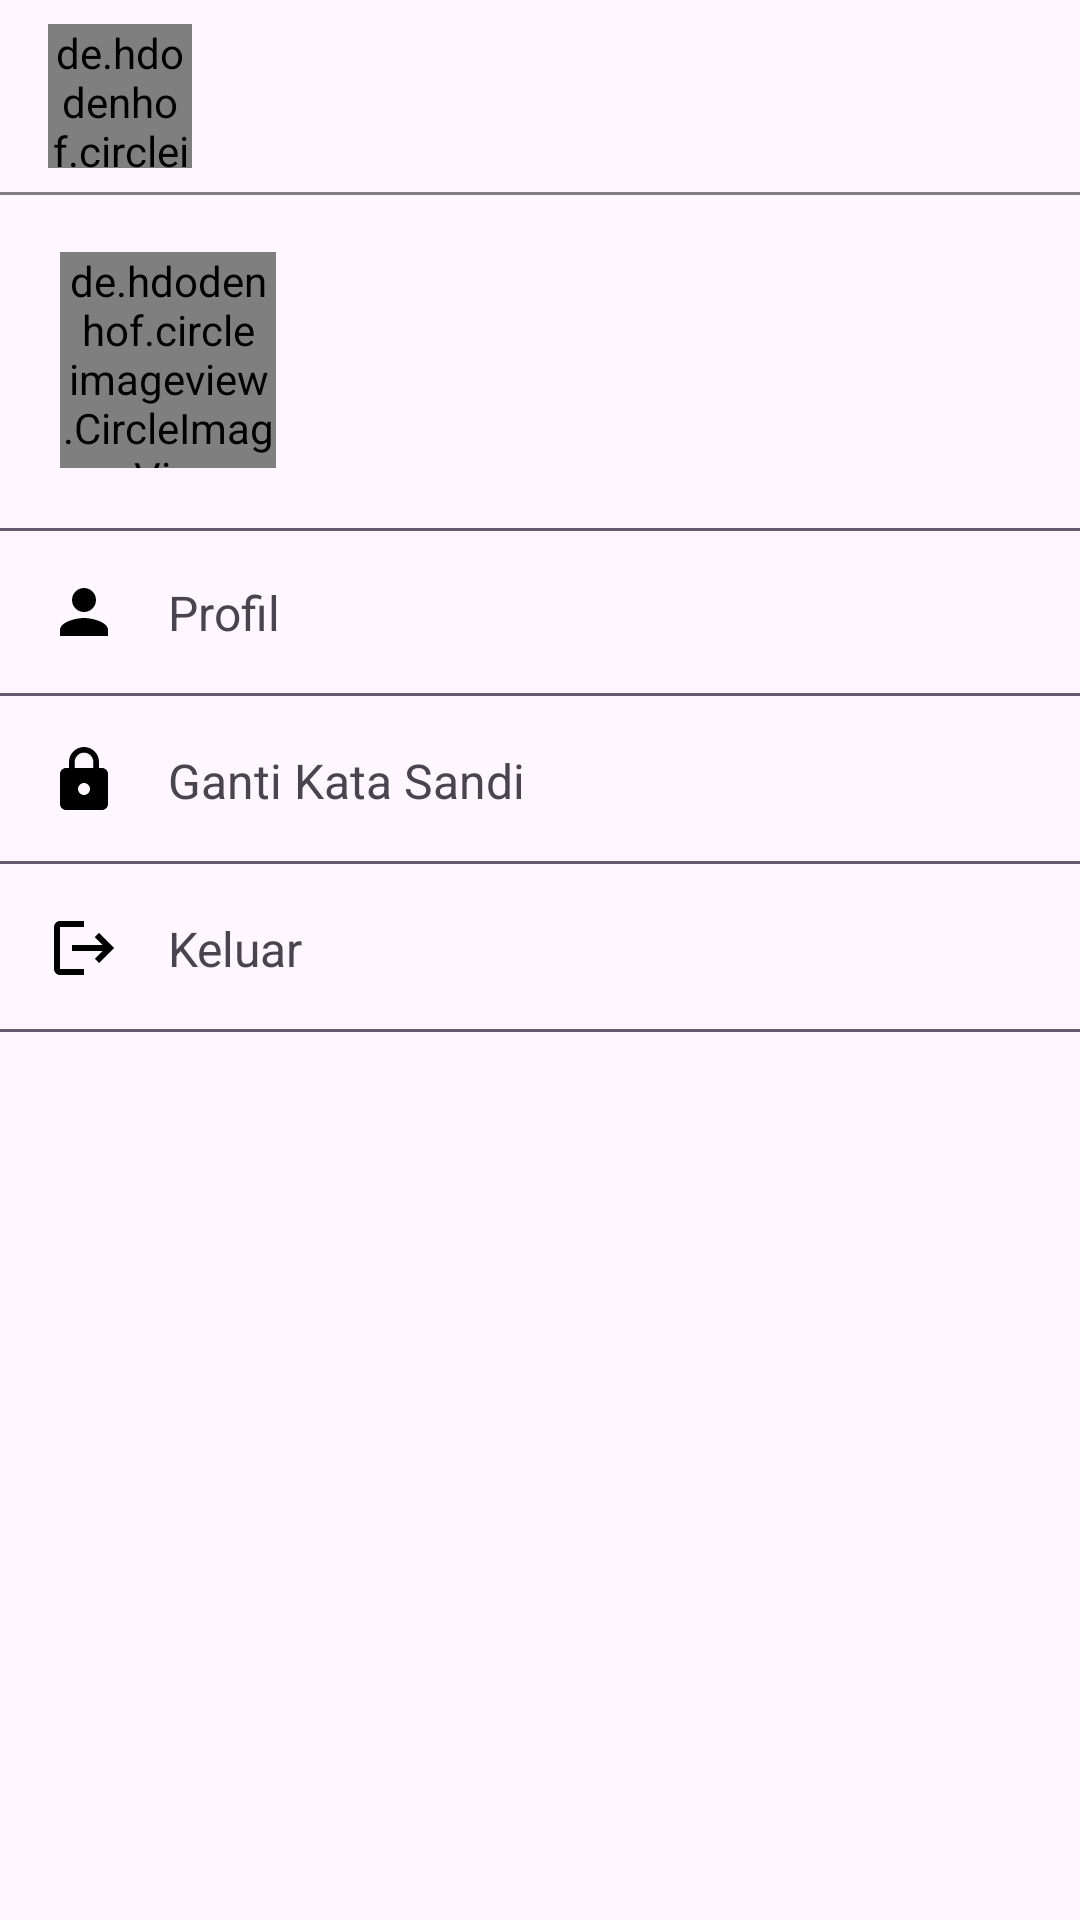

Screen size 1080px×1920px. Icon name, then its center in pixels as (x=x, y=y):
lock: (x=84, y=778)
person: (x=84, y=612)
